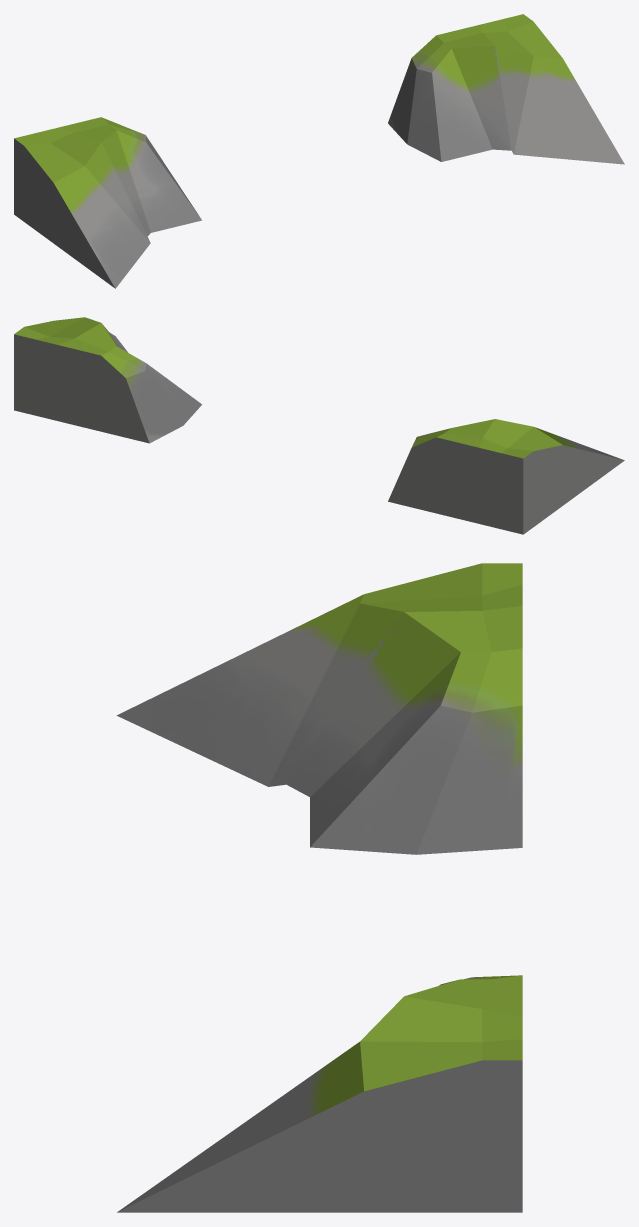
File: stairsTop.fbx
3 renders of one model, top to bottom at view 1: azimuth 30°, elevation 25°; view 2: azimuth 150°, elevation 25°; view 3: azimuth 270°, elevation 25°, orthographic. The views are drawn at different scales.
Parts seen in each view (by area): view 1: escaleras top; view 2: escaleras top; view 3: escaleras top.
Part boxes in pixels (<box>): escaleras top: <box>14,14,624,288</box>; escaleras top: <box>14,317,624,534</box>; escaleras top: <box>116,563,522,1212</box>.
Bounding box in the file's own units: 200 × 30.01 × 69.07.
Materials: 1 (1 with a texture image).
